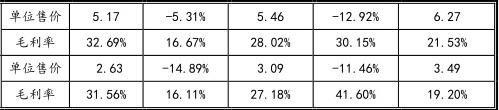column: (11, 1, 61, 110), (331, 1, 380, 110), (163, 4, 211, 110), (426, 1, 469, 110), (85, 1, 126, 110), (251, 1, 291, 110)
row: (5, 9, 499, 24), (2, 35, 499, 49), (1, 62, 498, 75), (3, 88, 499, 100)
